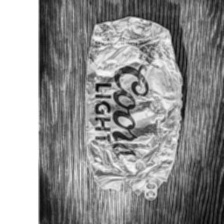can: (73, 9, 189, 204)
